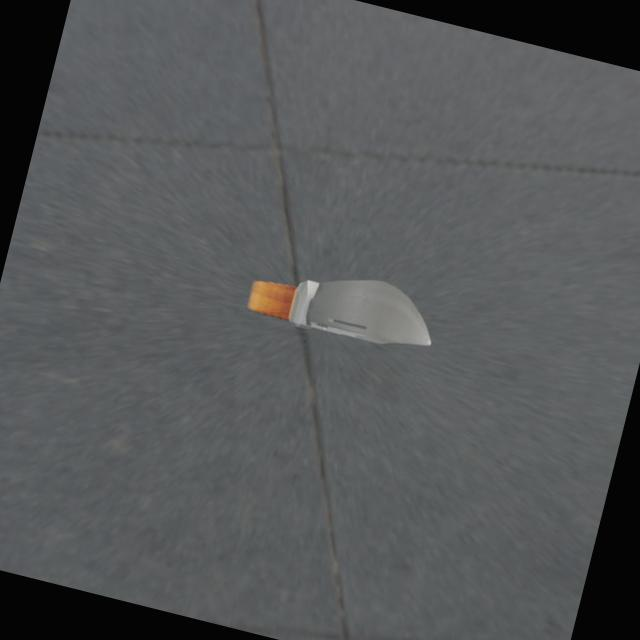knife: (238, 268, 322, 330)
